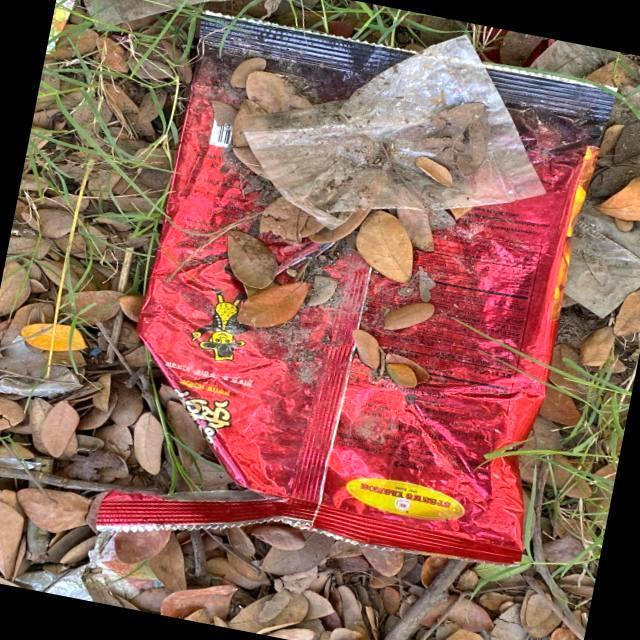packet: (148, 91, 529, 498)
